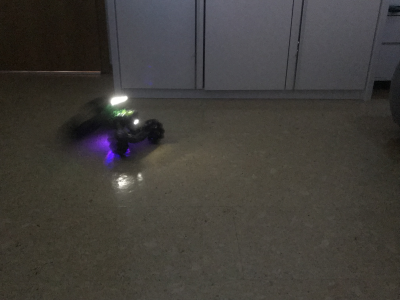remote control car: (67, 93, 166, 159)
